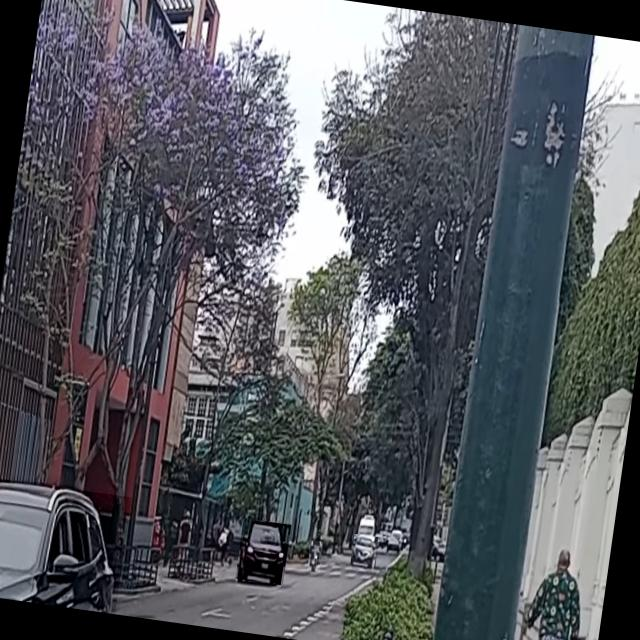car: (0, 475, 131, 614), (235, 518, 291, 586), (349, 534, 378, 571)
motorcycle: (307, 540, 323, 572)
